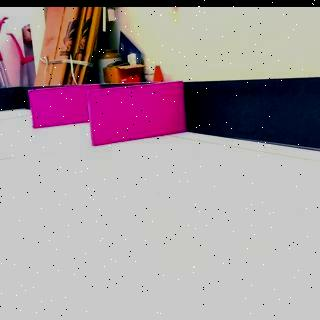xparking: (90, 90, 182, 142), (30, 88, 86, 128)
